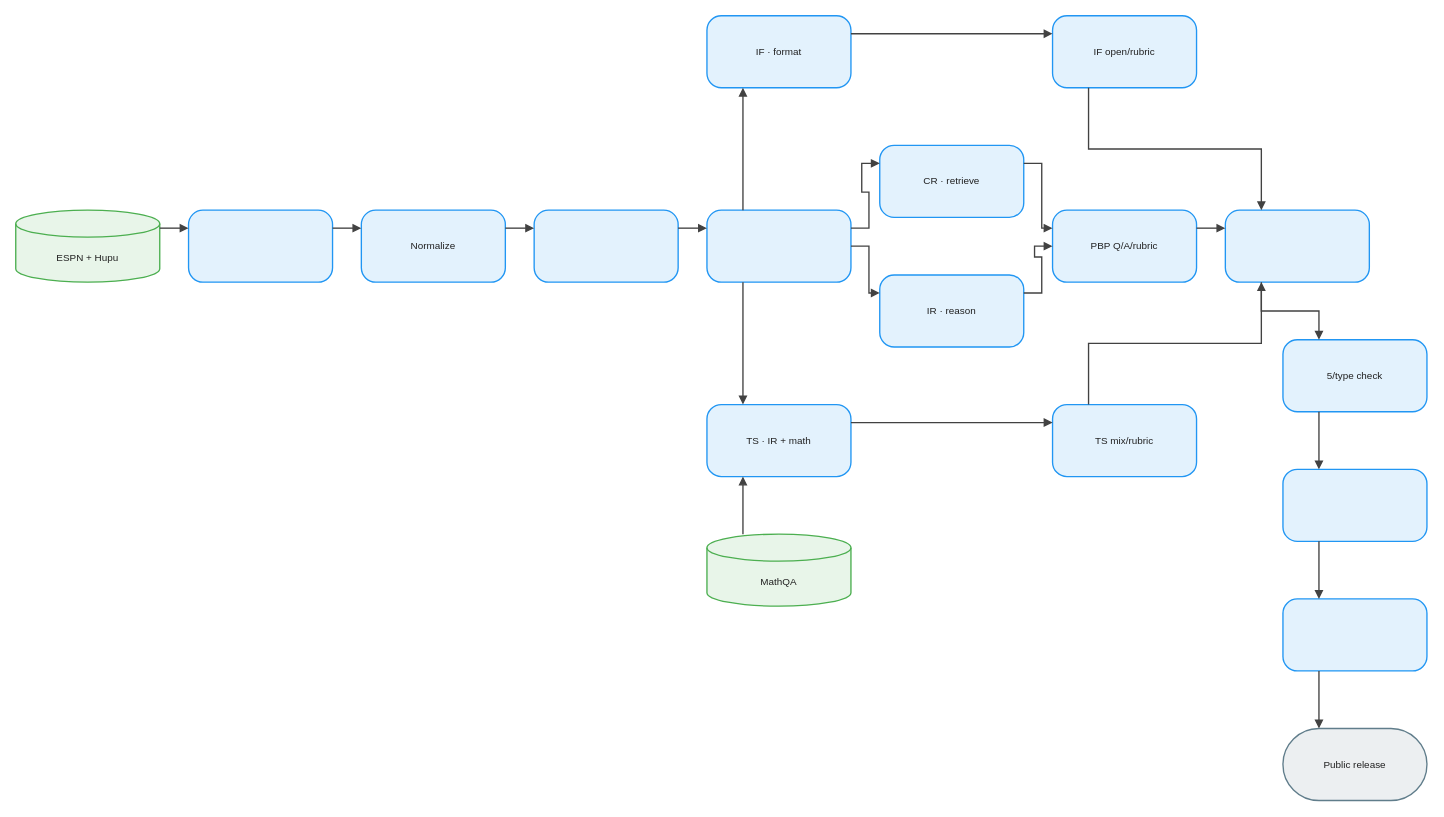
Some shapes in this 1444 by 817 pixel diagram are drawn without their labels. The centre of each missing label's shape, as x and y in pixels:
120 task rows: point (1297, 245)
30 uniq. games: point (260, 245)
5 turns/period: point (605, 245)
DeepSeek aid: point (1354, 634)
Dual review: point (1354, 505)
Manual design: point (778, 245)
